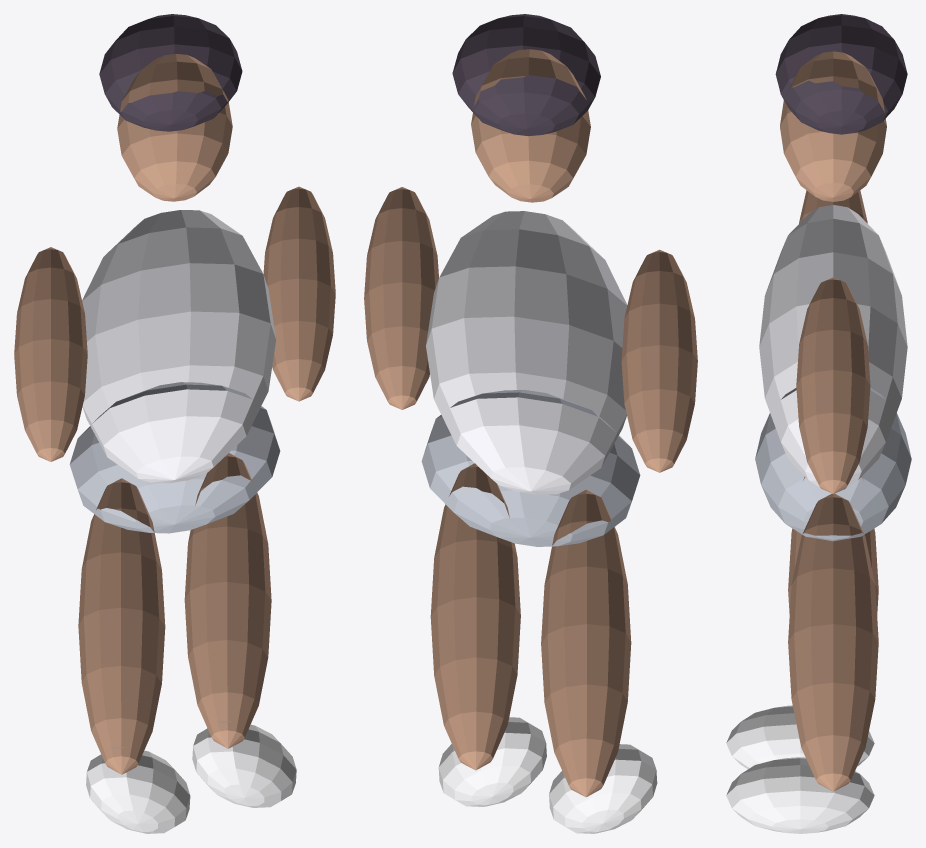
File: nia-character-animated.glb
3 renders of one model, left to right at view 1: azimuth 30°, elevation 25°; view 2: azimuth 150°, elevation 25°; view 3: azimuth 270°, elevation 25°, orthographic. The views are drawn at different scales.
Visible parts, largest first — view 1: torso, leftLeg, rightLeg, leftArm, rightArm, hips, head, hair, rightShoe, leftShoe; view 2: torso, leftLeg, rightLeg, leftArm, rightArm, hips, hair, head, leftShoe, rightShoe; view 3: rightLeg, torso, rightArm, hair, head, hips, rightShoe, leftShoe, leftLeg, leftArm.
Boxes of the visible parts, left/top/right/bottom form: torso: left=82, top=210, right=276, bottom=483; leftLeg: left=78, top=478, right=165, bottom=774; rightLeg: left=184, top=453, right=271, bottom=748; leftArm: left=14, top=247, right=87, bottom=461; rightArm: left=263, top=186, right=335, bottom=401; hips: left=69, top=382, right=280, bottom=533; head: left=117, top=54, right=232, bottom=201; hair: left=99, top=14, right=242, bottom=131; rightShoe: left=192, top=721, right=296, bottom=807; leftShoe: left=86, top=747, right=190, bottom=833; torso: left=426, top=211, right=627, bottom=494; leftLeg: left=541, top=489, right=631, bottom=797; rightLeg: left=430, top=463, right=520, bottom=770; leftArm: left=621, top=249, right=697, bottom=472; rightArm: left=364, top=187, right=438, bottom=409; hips: left=421, top=390, right=640, bottom=546; hair: left=452, top=14, right=600, bottom=136; head: left=471, top=49, right=590, bottom=202; leftShoe: left=549, top=744, right=657, bottom=833; rightShoe: left=438, top=717, right=546, bottom=806; rightLeg: left=788, top=493, right=878, bottom=791; torso: left=759, top=205, right=907, bottom=486; rightArm: left=796, top=277, right=870, bottom=493; hair: left=775, top=14, right=907, bottom=134; head: left=780, top=51, right=886, bottom=201; hips: left=755, top=388, right=911, bottom=541; rightShoe: left=726, top=757, right=874, bottom=833; leftShoe: left=726, top=705, right=874, bottom=768; leftLeg: left=788, top=477, right=878, bottom=614; leftArm: left=799, top=190, right=867, bottom=223.
Bounding box in the file's own units: 0.88 × 2.09 × 0.45.
